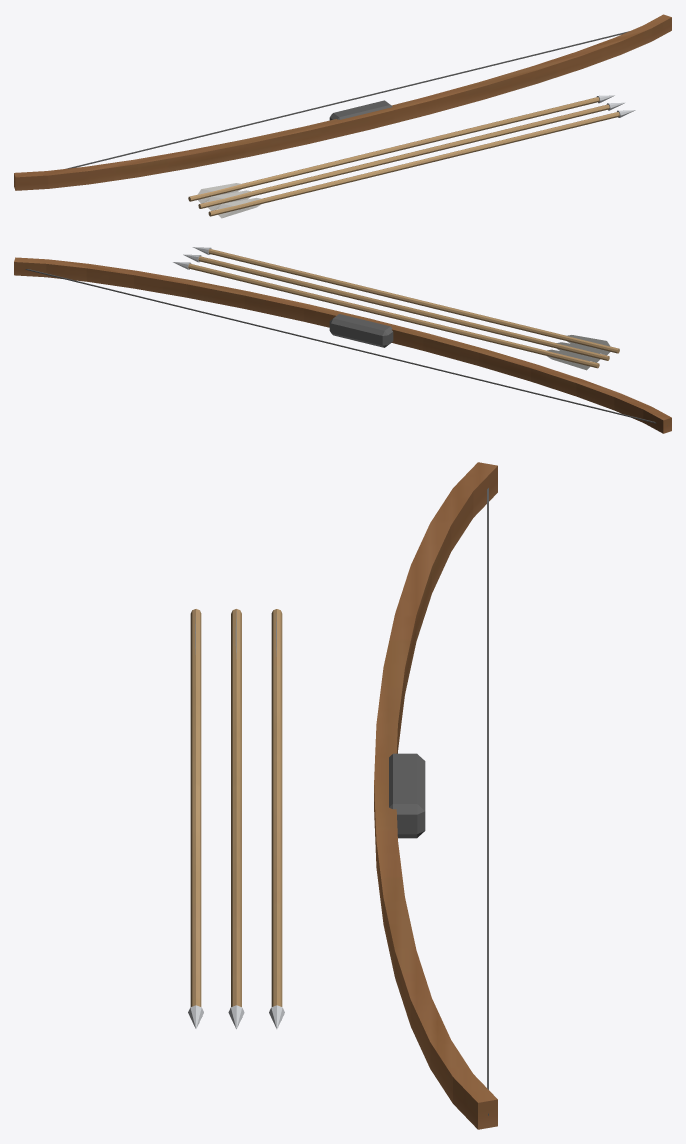
File: arco.glb
3 renders of one model, top to bottom at view 1: azimuth 30°, elevation 25°; view 2: azimuth 150°, elevation 25°; view 3: azimuth 270°, elevation 25°, orthographic. The views are drawn at different scales.
Visible parts, largest first — view 1: arco_madeira, arco_madeira_crua, arco_fita_preta, arco_pena; view 2: arco_madeira, arco_madeira_crua, arco_fita_preta, arco_pena; view 3: arco_madeira, arco_madeira_crua, arco_fita_preta.
Part boxes in pixels (x1,y1,x2,y2): arco_madeira: (14,14,671,190); arco_madeira_crua: (188,97,619,216); arco_fita_preta: (14,31,629,181); arco_pena: (197,183,261,218); arco_madeira: (14,257,671,433); arco_madeira_crua: (188,249,619,368); arco_fita_preta: (25,269,667,425); arco_pena: (546,335,610,370); arco_madeira: (374,462,497,1129); arco_madeira_crua: (190,609,282,1006); arco_fita_preta: (389,488,488,1115).
Size of the model in its own units: 1.12 by 0.04 by 0.2299.
Materials: 5 (2 with a texture image).
